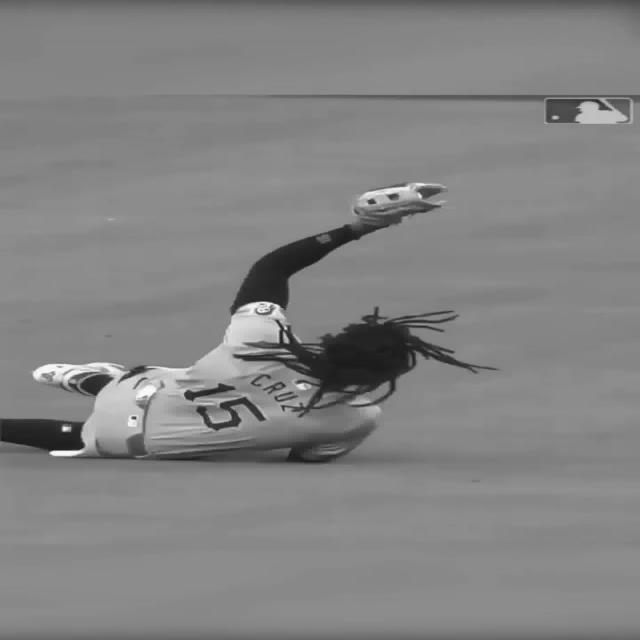baseball_glove: (350, 178, 450, 226)
shoe: (30, 362, 130, 394)
